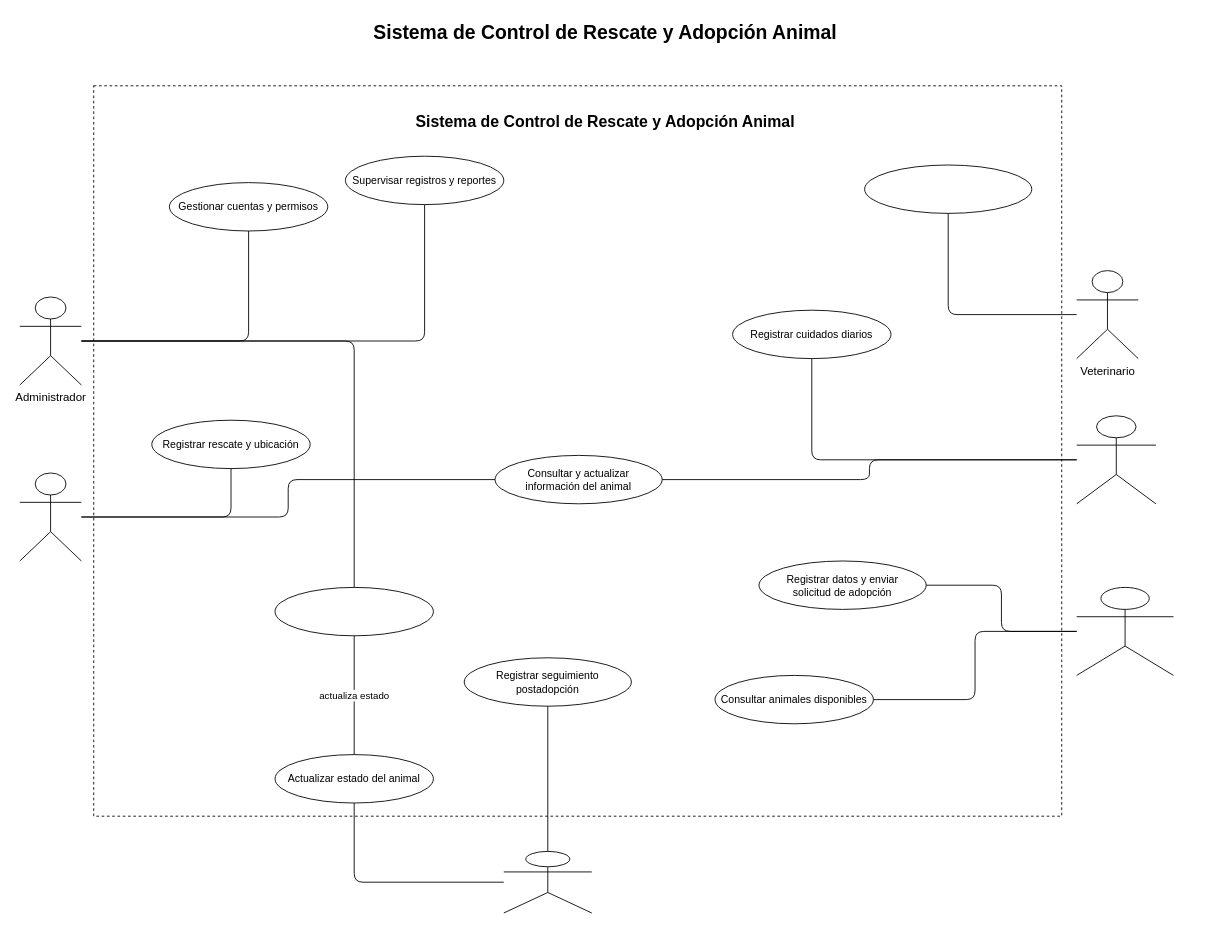
This 1219x948 diagram has some shape labels left out. Each missing label, with the box of its shape:
Gestionar solicitud y formalizar adopción: (274, 587, 433, 636)
Persona interesada en adoptar: (1076, 587, 1173, 675)
Personal del refugio: (1076, 415, 1156, 504)
Registrar atención médica, vacunas y tratamientos: (864, 164, 1032, 213)
Rescatista: (19, 472, 81, 561)
Responsable de seguimiento: (503, 851, 592, 913)
